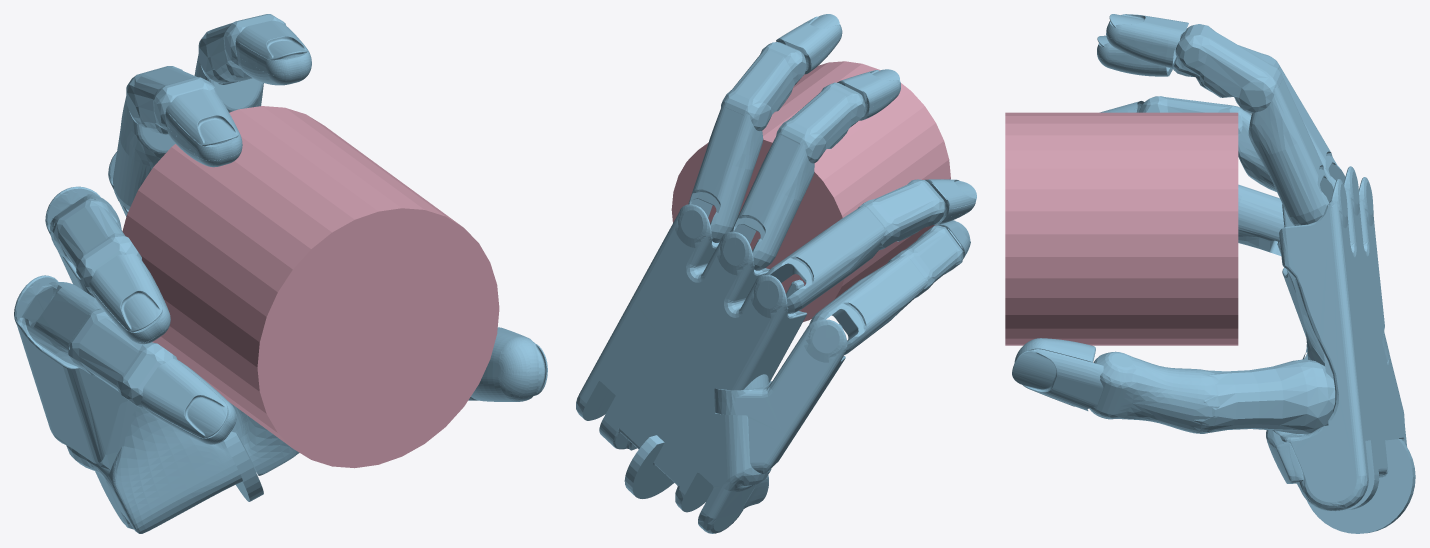
3 renders of one model, left to right at view 1: azimuth 30°, elevation 25°; view 2: azimuth 150°, elevation 25°; view 3: azimuth 270°, elevation 25°, orthographic. The views are drawn at different scales.
Visible parts, largest first — view 1: cylinder_medium.stl, world; view 2: world, cylinder_medium.stl; view 3: world, cylinder_medium.stl.
Boxes of the visible parts, x1=… form: cylinder_medium.stl: x1=122, y1=106, x2=499, y2=468; world: x1=14, y1=14, x2=547, y2=533; world: x1=576, y1=14, x2=976, y2=533; cylinder_medium.stl: x1=671, y1=61, x2=950, y2=321; world: x1=1012, y1=14, x2=1415, y2=533; cylinder_medium.stl: x1=1005, y1=112, x2=1238, y2=345.
Size of the model in its own units: 0.1307 by 0.1863 by 0.1409.
